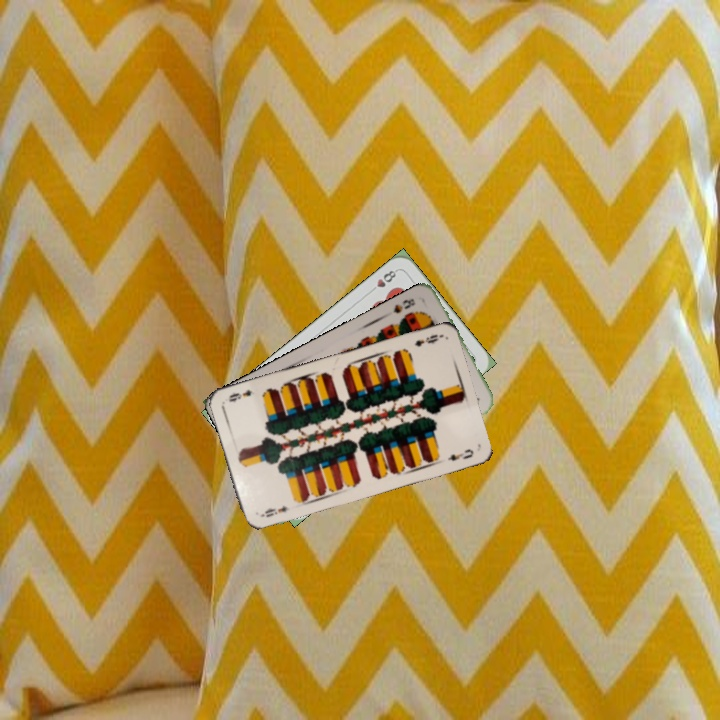E9: (256, 501, 292, 520), (411, 330, 443, 349)
H8: (366, 266, 400, 295)
S8: (389, 294, 418, 316)
